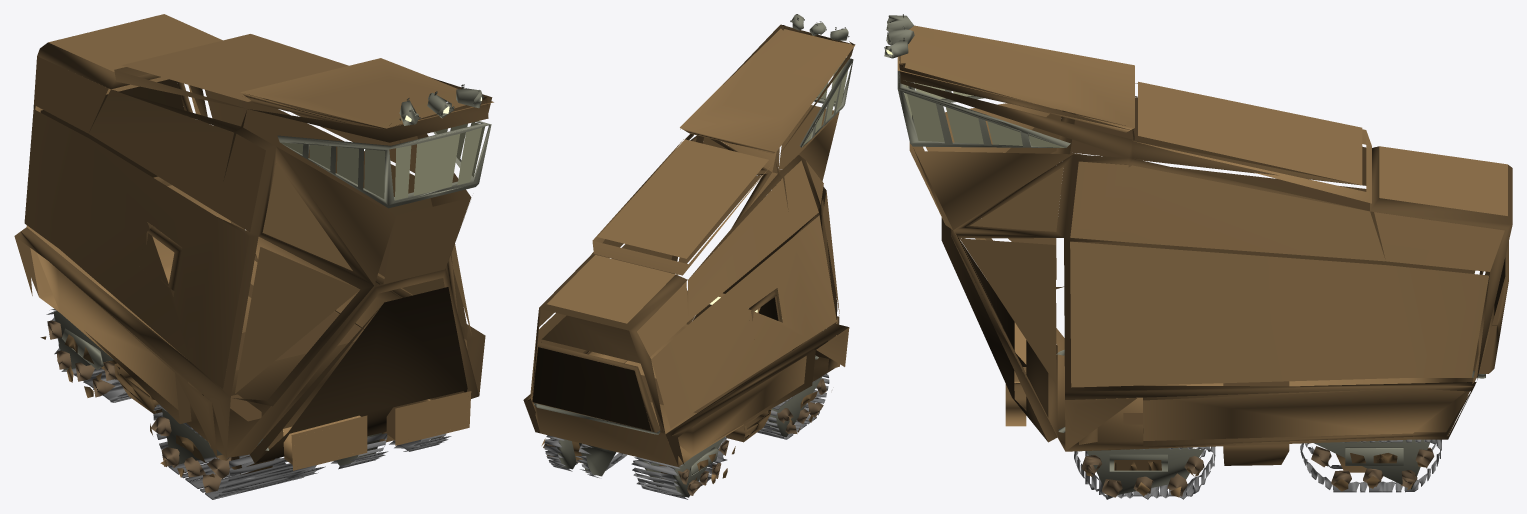
The model's file is sandcrawler.lod1.glb.
3 views of the same model, side by side, from view 1: azimuth 30°, elevation 25°; view 2: azimuth 150°, elevation 25°; view 3: azimuth 270°, elevation 25° (orthographic). The views are drawn at different scales.
Visible parts, largest first — view 1: polySurface3_Hull_Main_0, polySurface3_Hull_dark_0, polySurface3_lambert7_0, polySurface4_Glass_0, polySurface4_Metal_frame_0, pCube28_Trucks1_0, pCylinder22_Pivots_0, Truck_Chassis_Metal_fittings_0, polySurface3_Hull_Light_0; view 2: polySurface3_Hull_Main_0, polySurface3_Hull_dark_0, polySurface3_lambert7_0, pCube28_Trucks1_0, Truck_Chassis_Metal_fittings_0, polySurface4_Metal_frame_0, polySurface3_Hull_Light_0, pCylinder22_Pivots_0, polySurface4_Glass_0; view 3: polySurface3_Hull_Main_0, polySurface3_Hull_dark_0, polySurface4_Metal_frame_0, polySurface3_lambert7_0, Truck_Chassis_Metal_fittings_0, polySurface4_Glass_0, pCube28_Trucks1_0, polySurface3_Hull_Light_0, pCylinder22_Pivots_0.
Part boxes in pixels (x1,y1,x2,y2): polySurface3_Hull_Main_0: (24,14,493,477); polySurface3_Hull_dark_0: (14,42,492,474); polySurface3_lambert7_0: (40,79,467,463); polySurface4_Glass_0: (280,122,484,200); polySurface4_Metal_frame_0: (62,88,491,450); pCube28_Trucks1_0: (46,309,451,499); pCylinder22_Pivots_0: (47,320,444,492); Truck_Chassis_Metal_fittings_0: (54,84,483,465); polySurface3_Hull_Light_0: (114,67,464,464); polySurface3_Hull_Main_0: (530,28,854,483); polySurface3_Hull_dark_0: (523,24,855,479); polySurface3_lambert7_0: (532,180,836,430); pCube28_Trucks1_0: (544,373,829,499); Truck_Chassis_Metal_fittings_0: (550,14,849,497); polySurface4_Metal_frame_0: (534,14,853,475); polySurface3_Hull_Light_0: (592,139,837,335); pCylinder22_Pivots_0: (543,379,826,495); polySurface4_Glass_0: (802,59,847,146); polySurface3_Hull_Main_0: (897,25,1507,497); polySurface3_Hull_dark_0: (899,56,1512,472); polySurface4_Metal_frame_0: (884,15,1485,471); polySurface3_lambert7_0: (941,217,1505,441); Truck_Chassis_Metal_fittings_0: (884,14,1430,496); polySurface4_Glass_0: (903,81,1064,147); pCube28_Trucks1_0: (1074,439,1441,499); polySurface3_Hull_Light_0: (1005,83,1371,426); pCylinder22_Pivots_0: (1081,446,1434,497).
Size of the model in its own units: 16.34 by 26.43 by 35.63.
